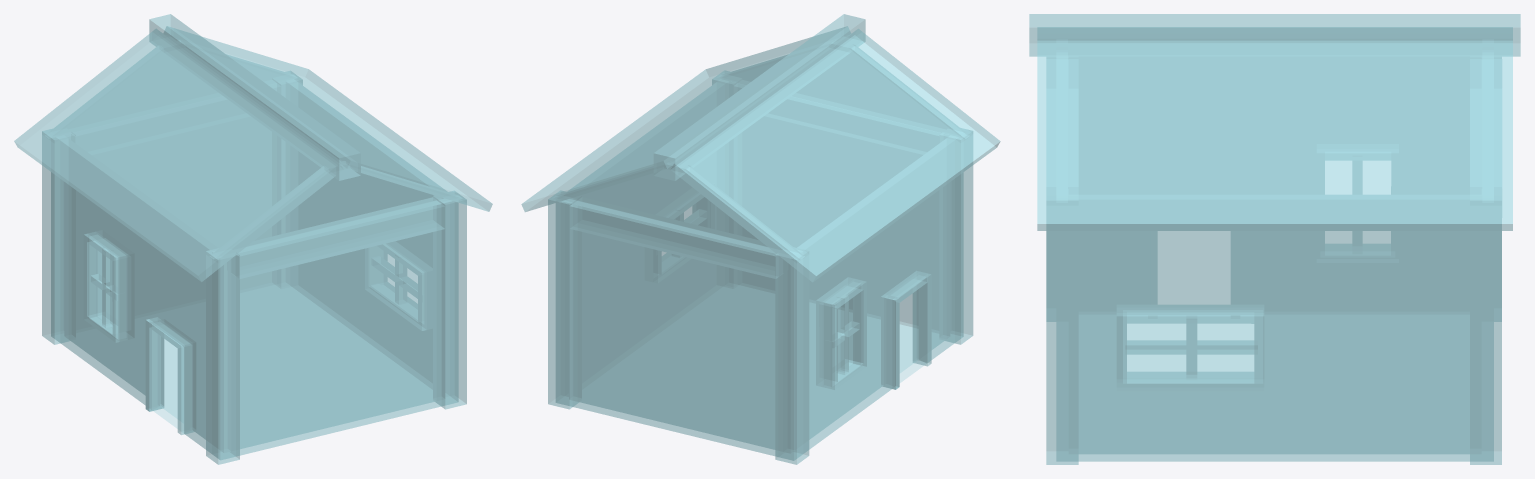
File: HouseTransparent.fbx
3 views of the same model, side by side, from view 1: azimuth 30°, elevation 25°; view 2: azimuth 150°, elevation 25°; view 3: azimuth 270°, elevation 25° (orthographic). The views are drawn at different scales.
Visible parts, largest first — view 1: PlaceholderHouseTransparentBlue; view 2: PlaceholderHouseTransparentBlue; view 3: PlaceholderHouseTransparentBlue.
Part boxes in pixels (x1=…): PlaceholderHouseTransparentBlue: x1=14, y1=14, x2=492, y2=464; PlaceholderHouseTransparentBlue: x1=521, y1=14, x2=1000, y2=464; PlaceholderHouseTransparentBlue: x1=1029, y1=14, x2=1520, y2=464.
Size of the model in its own units: 1065 by 979 by 1189.
